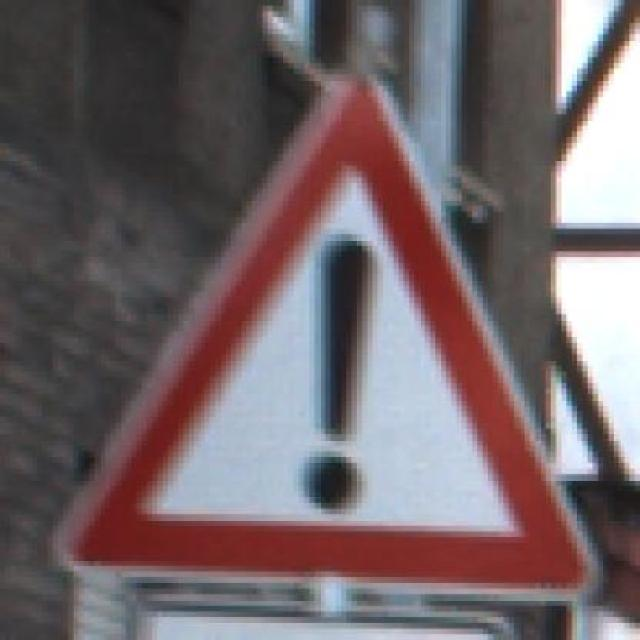Attention Please-: (39, 67, 616, 610)
